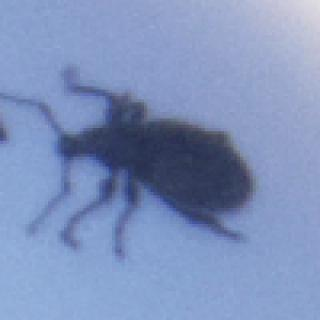bvw: (2, 65, 253, 262)
